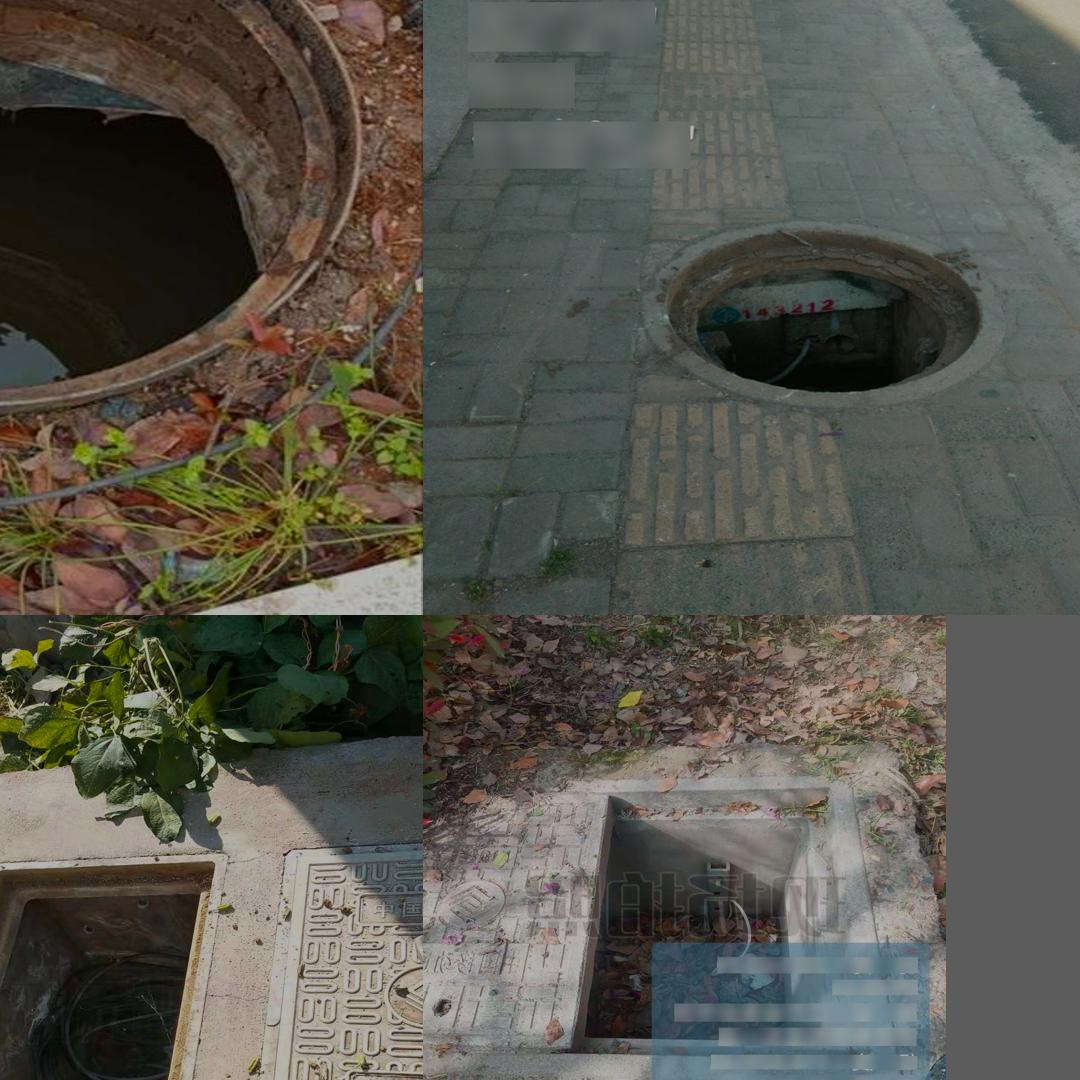lose: (0, 0, 379, 420), (541, 750, 888, 1070), (640, 220, 1007, 411), (0, 851, 226, 1080)
